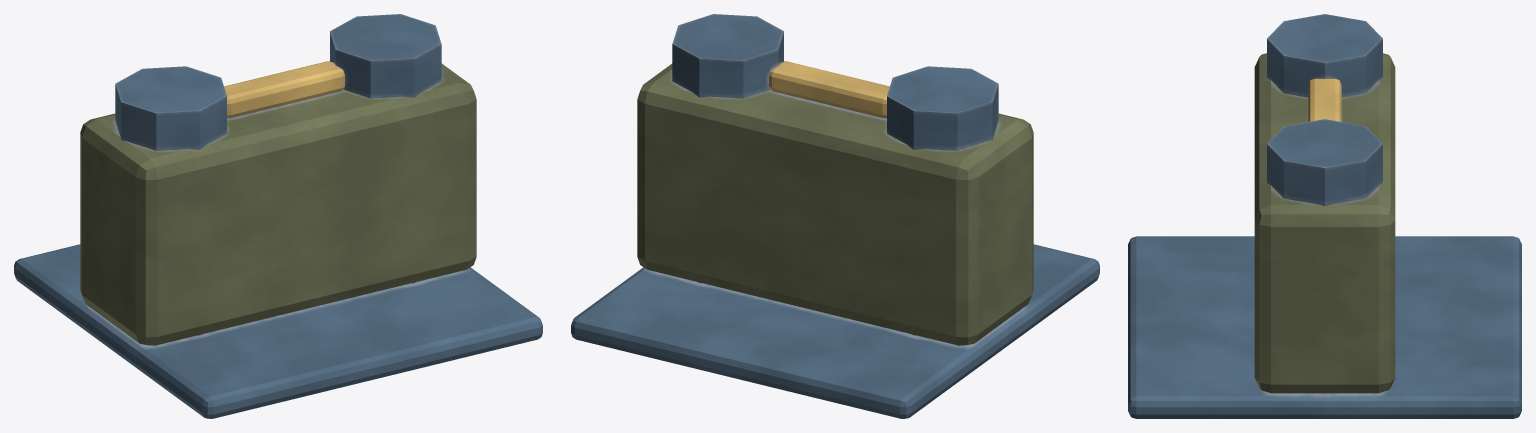
File: com_wall_straight.glb
3 views of the same model, side by side, from view 1: azimuth 30°, elevation 25°; view 2: azimuth 150°, elevation 25°; view 3: azimuth 270°, elevation 25° (orthographic).
Visible parts, largest first — view 1: com_wall_straight; view 2: com_wall_straight; view 3: com_wall_straight.
Part boxes in pixels (x1,y1,x2,y2): com_wall_straight: (14,14,542,418); com_wall_straight: (571,14,1099,418); com_wall_straight: (1128,14,1521,418).
Size of the model in its own units: 0.95 by 0.66 by 0.95.
Materials: 1 (1 with a texture image).
